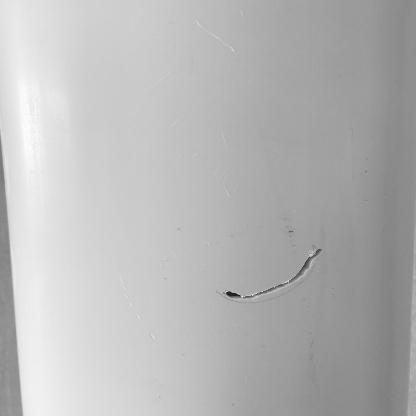fengxi: (223, 246, 323, 303)
